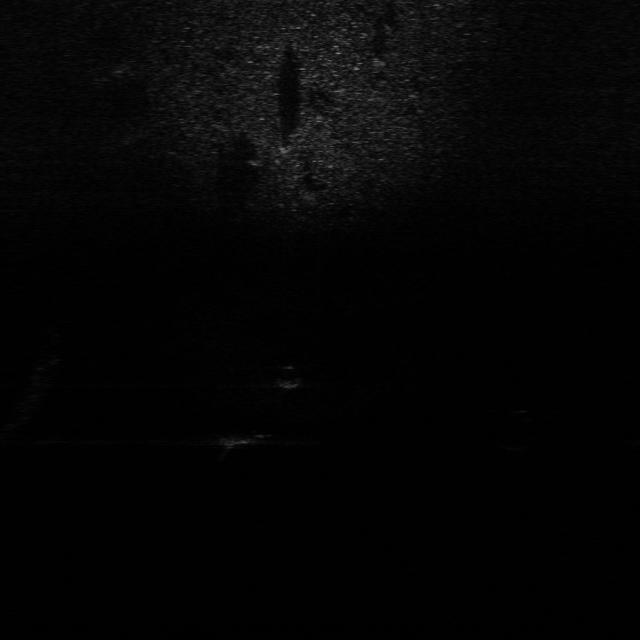ball: (272, 362, 303, 388)
square cage: (207, 429, 269, 448)
tyre: (490, 407, 550, 452)
